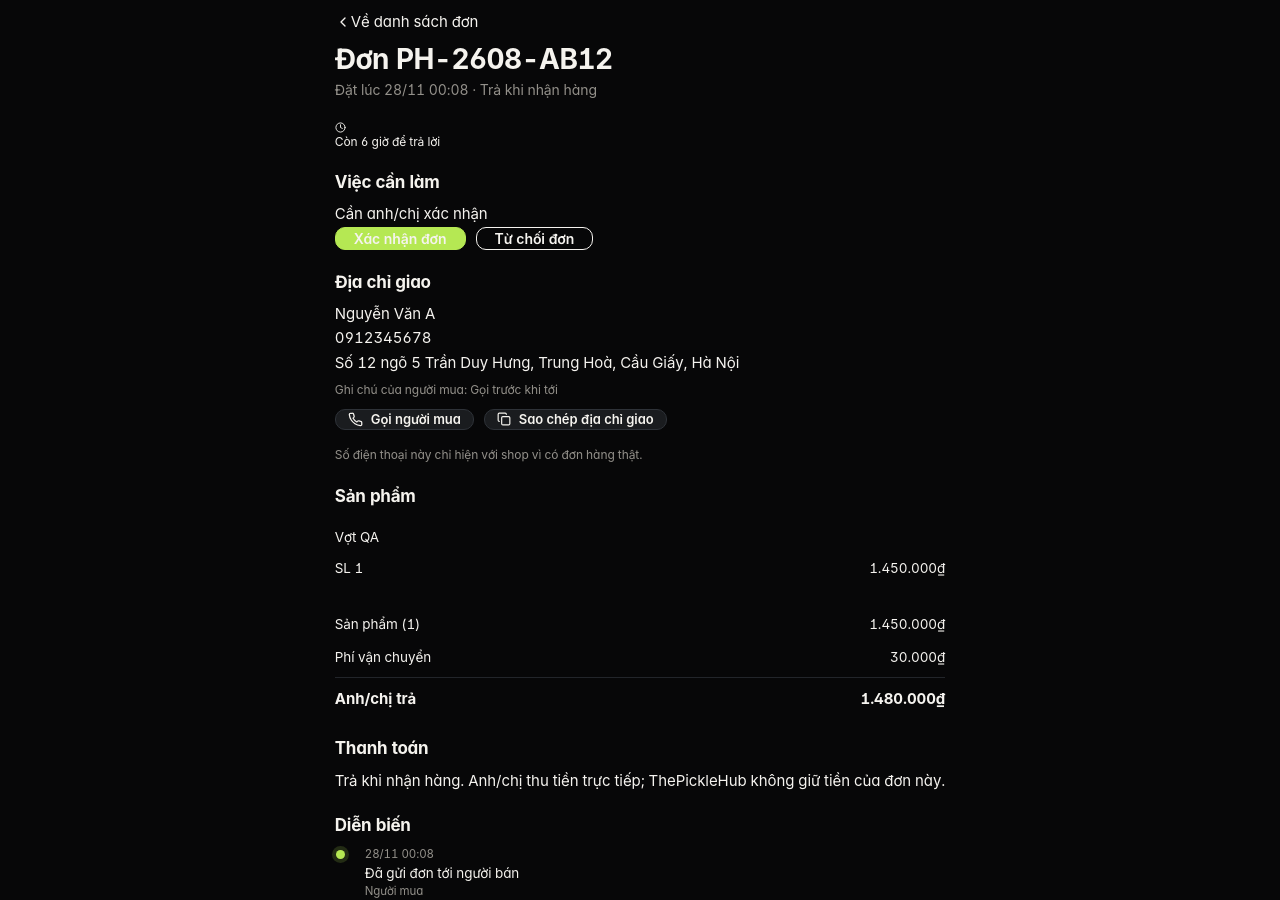
Scenario: an order somebody else moved first › says so, and puts the button back
This screenshot has width=1280, height=900.
Step 1. Click the button "Xác nhận đơn" → (400, 238), box [335,227,466,250]
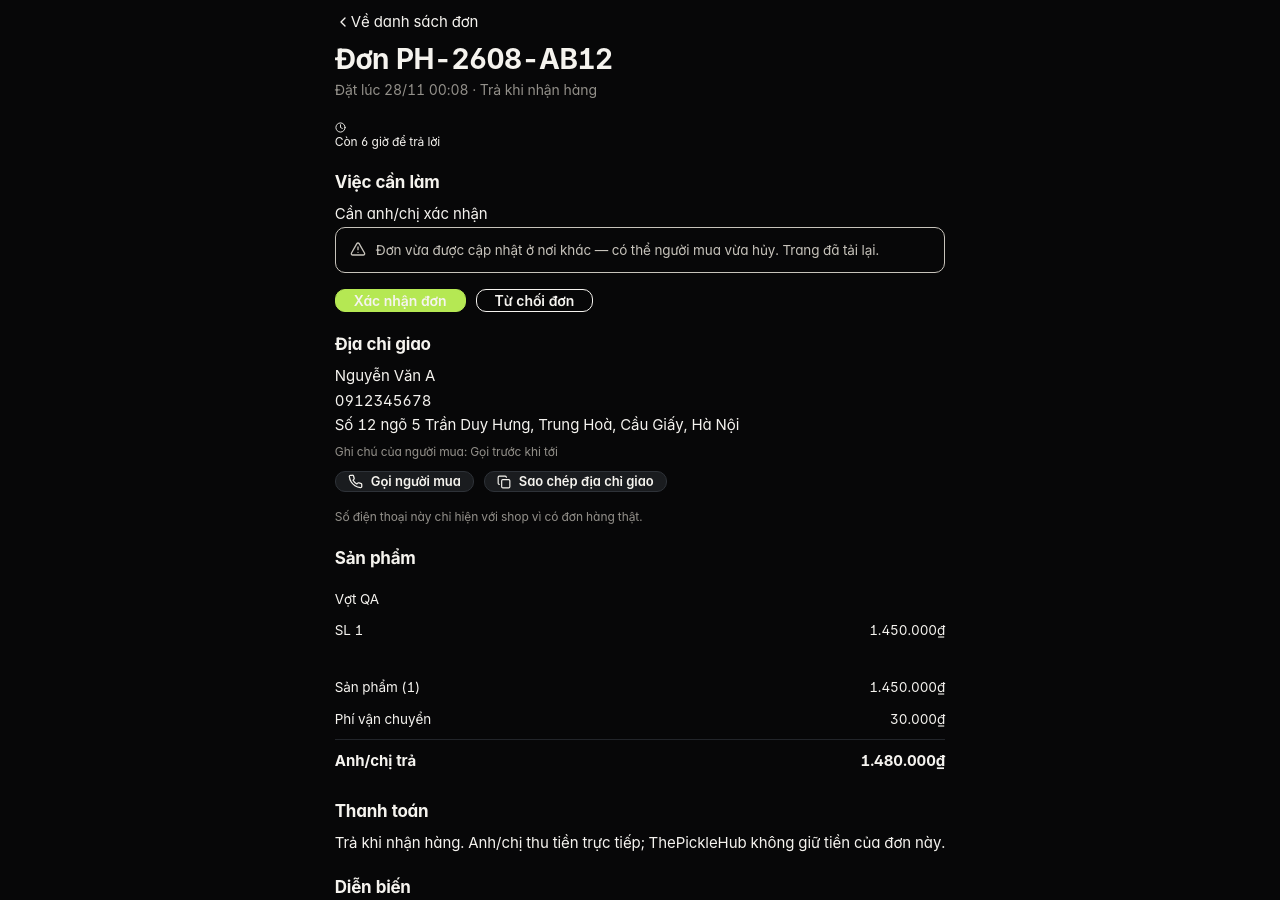
Expected: the button "Xác nhận đơn" is enabled, [335,289,466,312]
Result: the message shows "có thể người mua vừa hủy" at [376,242,879,258]
